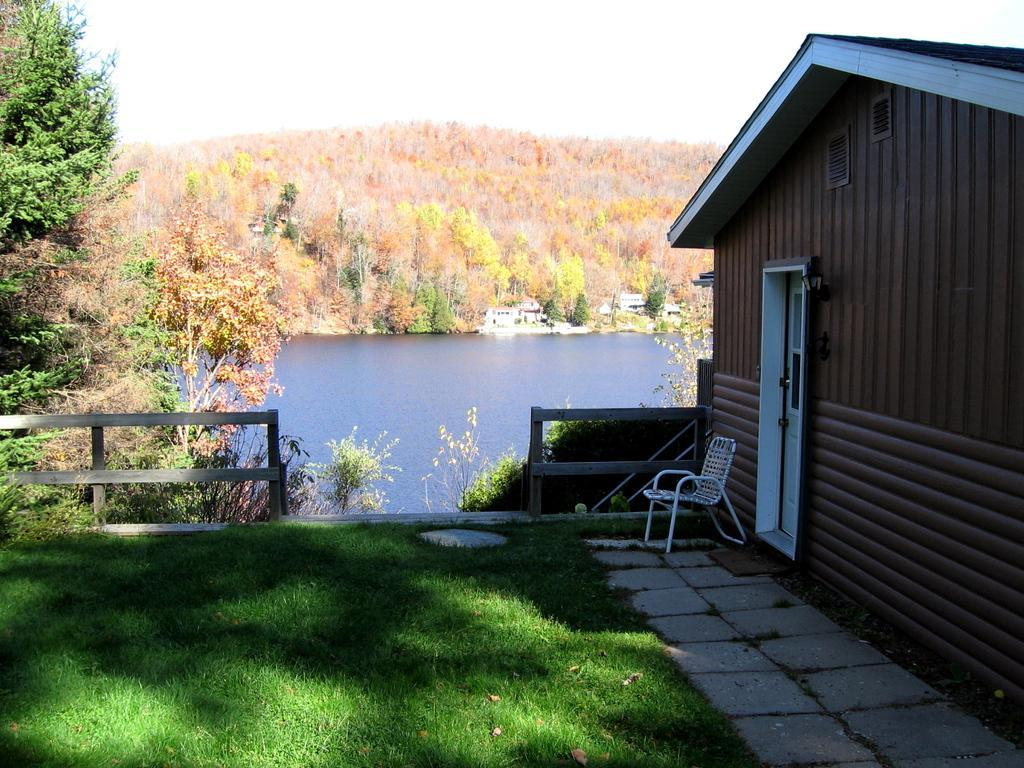door: (781, 293, 805, 530)
